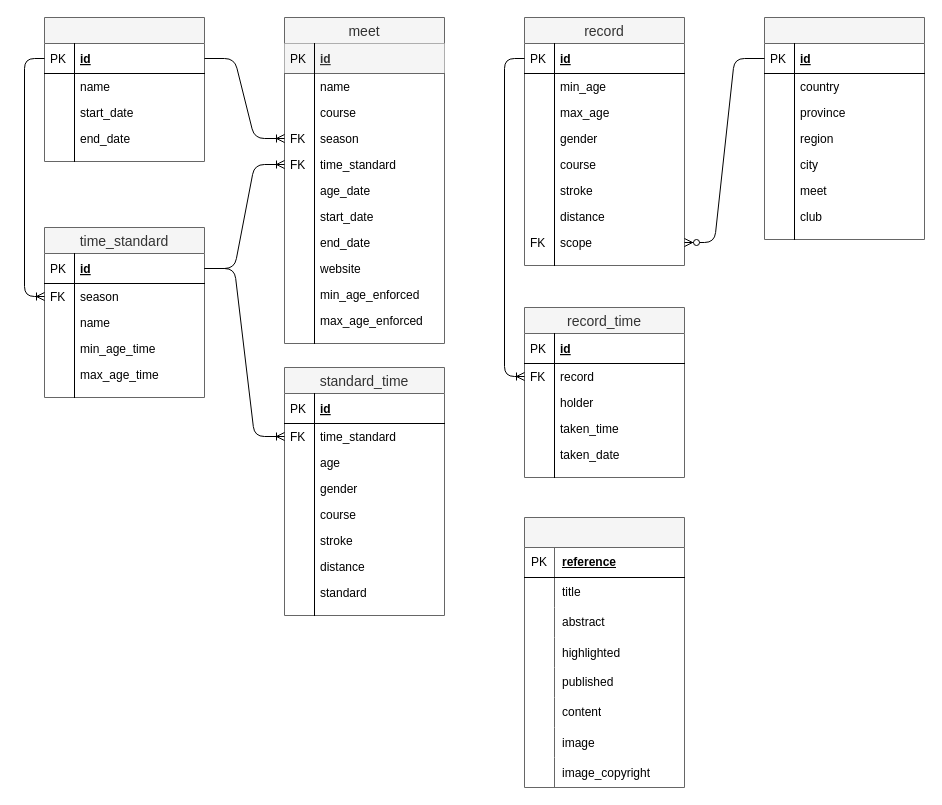
The diagram is 942 pixels wide and 805 high, and some of its shapes have lost their labels. Here are the shapes that lost their labels. From the top down, the box of each, then its label:
(44, 16, 204, 162): swim_season
(764, 16, 924, 240): record_scope
(524, 516, 684, 788): article
